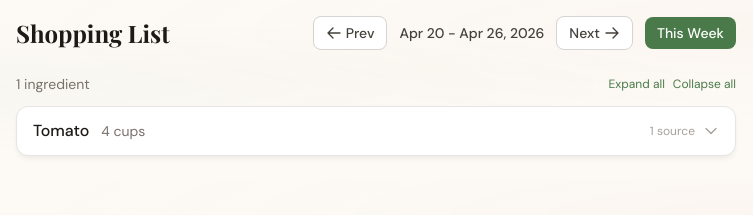
Test case: ShoppingList › renders aggregated ingredients returned by the server and expands sources on click
The image size is (753, 215).
Expected: the text "Tomato" is shown, 33,119 -> 89,143
Expected: the text "4 cups" is shown, 101,121 -> 145,141
What coordinates should you click on to do the following:
click the button "Tomato 4 cups 1 source"
I would click on:
 (61, 130)
Its box is 17,107 -> 735,155.
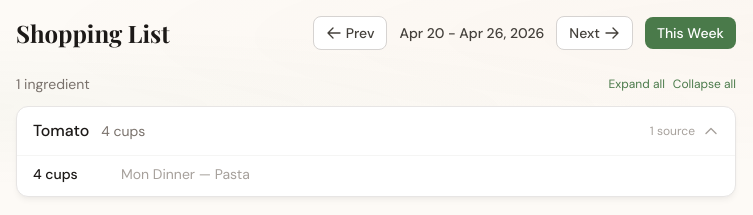
Expected: the text "Mon Dinner — Pasta" is shown, 121,164 -> 250,184
